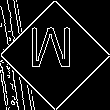M_S: (32, 30, 78, 80)
